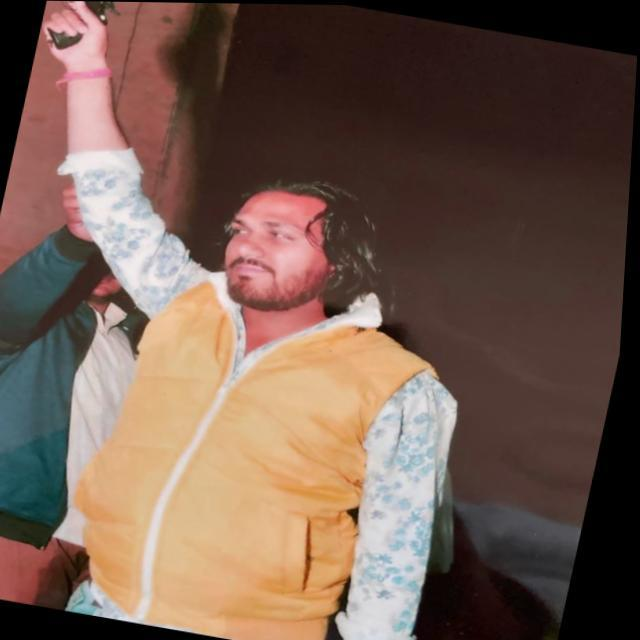weapon: (37, 0, 141, 66)
